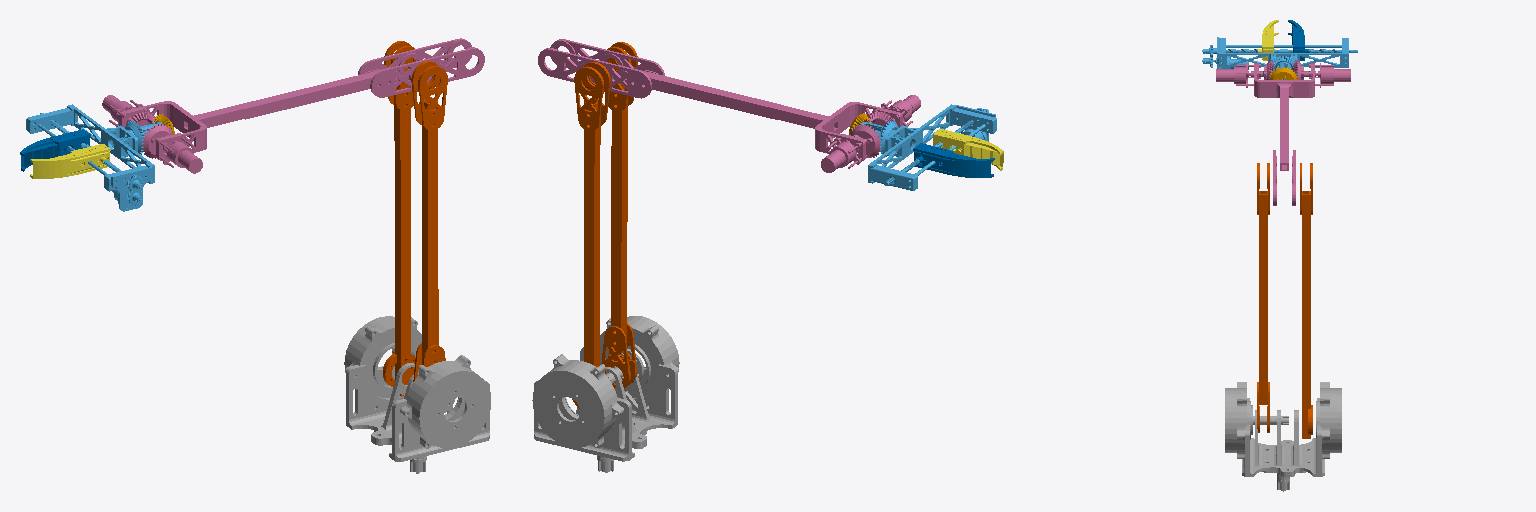
URDF robot description (rm):
<robot name="rm" version="1.0">
  <joint name="bevel_pitch" type="revolute">
    <limit lower="-1.57000" upper="1.57000" effort="10.0" velocity="2.0"/>
    <origin rpy="0 0.00000 0" xyz="0.00000 0.00000 0.00000"/>
    <parent link="bevel_link"/>
    <child link="bevel_link_link"/>
    <axis xyz="1.00000 0.00000 0.00000"/>
  </joint>
  <joint name="bevel_roll" type="revolute">
    <limit lower="-1.57000" upper="1.57000" effort="10.0" velocity="2.0"/>
    <origin rpy="0.00000 0.00000 0.00000" xyz="-0.51941 -0.00182 -0.00020"/>
    <parent link="link2_link"/>
    <child link="bevel_link"/>
    <axis xyz="0.00000 1.00000 0.00000"/>
  </joint>
  <joint name="gripper_l" type="prismatic">
    <limit lower="0.00000" upper="0.08000" effort="10.0" velocity="2.0"/>
    <origin rpy="0.00000 0.00000 0.0" xyz="-0.11603 -0.01154 0.00026"/>
    <parent link="bevel_link_link"/>
    <child link="gripperl_link"/>
    <axis xyz="0.00000 -1.00000 0.00000"/>
  </joint>
  <joint name="gripper_r" type="prismatic">
    <limit lower="0.00000" upper="0.08000" effort="10.0" velocity="2.0"/>
    <origin rpy="0.00000 0.00000 0.0" xyz="-0.11612 0.00953 0.00026"/>
    <parent link="bevel_link_link"/>
    <child link="gripperr_link"/>
    <axis xyz="0.00000 1.00000 0.00000"/>
  </joint>
  <joint name="link1" type="revolute">
    <limit lower="-1.10000" upper="0.60000" effort="10.0" velocity="2.0"/>
    <origin rpy="0.00000 0.00000 0.00000" xyz="-0.00009 0.00000 0.11805"/>
    <parent link="swivel_link"/>
    <child link="link1_link"/>
    <axis xyz="0.00000 1.00000 0.00000"/>
  </joint>
  <joint name="link2" type="revolute">
    <limit lower="-1.10000" upper="0.80000" effort="10.0" velocity="2.0"/>
    <origin rpy="0.00000 0.00000 0.00000" xyz="-0.00188 0.00211 0.57968"/>
    <parent link="link1_link"/>
    <child link="link2_link"/>
    <axis xyz="0.00000 1.00000 0.00000"/>
  </joint>
  <joint name="swivel" type="revolute">
    <limit lower="-1.57000" upper="1.57000" effort="10.0" velocity="2.0"/>
    <origin rpy="0.00000 0.00000 0.00000" xyz="0.00009 -0.00000 0.05537"/>
    <parent link="body_link"/>
    <child link="swivel_link"/>
    <axis xyz="0.00000 0.00000 1.00000"/>
  </joint>
  <link name="bevel_link">
    <collision name="bevel_collision_roll">
      <origin rpy="0.0 -0.00000 0.0" xyz="0.00000 -0.00000 0.00000"/>
      <geometry>
        <mesh filename="package://actual_rm_description/meshes/stl/bevel_collision_roll.stl" scale="1.00000 1.00000 1.00000"/>
      </geometry>
    </collision>
    <visual name="bevel_roll">
      <origin rpy="0.0 -0.00000 0.0" xyz="0.00000 -0.00000 -0.00000"/>
      <geometry>
        <mesh filename="package://actual_rm_description/meshes/stl/bevel_roll.stl" scale="1.00000 1.00000 1.00000"/>
      </geometry>
    </visual>
  </link>
  <link name="bevel_link_link">
    <collision name="bevel_collision_pitch">
      <origin rpy="0.00000 0.00000 0.0" xyz="-0.00000 0.00000 0.00000"/>
      <geometry>
        <mesh filename="package://actual_rm_description/meshes/stl/bevel_collision_pitch.stl" scale="1.00000 1.00000 1.00000"/>
      </geometry>
    </collision>
    <visual name="bevel_pitch">
      <origin rpy="0.00000 0.00000 0.0" xyz="-0.00000 0.00000 0.00000"/>
      <geometry>
        <mesh filename="package://actual_rm_description/meshes/stl/bevel_pitch.stl" scale="1.00000 1.00000 1.00000"/>
      </geometry>
    </visual>
  </link>
  <link name="body_link">
    <collision name="body_collision">
      <origin rpy="0.00000 0.00000 0.00000" xyz="0.00000 0.00000 0.00000"/>
      <geometry>
        <mesh filename="package://actual_rm_description/meshes/stl/body_collision.stl" scale="1.00000 1.00000 1.00000"/>
      </geometry>
    </collision>
    <visual name="body">
      <origin rpy="0.00000 0.00000 0.00000" xyz="0.00000 0.00000 0.00000"/>
      <geometry>
        <mesh filename="package://actual_rm_description/meshes/stl/body.stl" scale="1.00000 1.00000 1.00000"/>
      </geometry>
    </visual>
  </link>
  <link name="gripperl_link">
    <collision name="gripperl_collision">
      <origin rpy="0.00000 0.00000 0.00000" xyz="0.00000 -0.00906 0.00000"/>
      <geometry>
        <mesh filename="package://actual_rm_description/meshes/stl/gripperl_collision.stl" scale="1.00000 1.00000 1.00000"/>
      </geometry>
    </collision>
    <visual name="gripperl">
      <origin rpy="0.00000 0.00000 0.00000" xyz="0.00000 -0.00906 0.00000"/>
      <geometry>
        <mesh filename="package://actual_rm_description/meshes/stl/gripperl.stl" scale="1.00000 1.00000 1.00000"/>
      </geometry>
    </visual>
  </link>
  <link name="gripperr_link">
    <collision name="gripperr_collision">
      <origin rpy="0.00000 0.00000 0.00000" xyz="0.00000 0.01059 -0.00000"/>
      <geometry>
        <mesh filename="package://actual_rm_description/meshes/stl/gripperr_collision.stl" scale="1.00000 1.00000 1.00000"/>
      </geometry>
    </collision>
    <visual name="gripperr">
      <origin rpy="0.00000 0.00000 0.00000" xyz="0.00000 0.01059 -0.00000"/>
      <geometry>
        <mesh filename="package://actual_rm_description/meshes/stl/gripperr.stl" scale="1.00000 1.00000 1.00000"/>
      </geometry>
    </visual>
  </link>
  <link name="link1_link">
    <collision name="link1_collision">
      <origin rpy="0.00000 0.00000 0.00000" xyz="0.00000 0.00000 0.00000"/>
      <geometry>
        <mesh filename="package://actual_rm_description/meshes/stl/link1_collision.stl" scale="1.00000 1.00000 1.00000"/>
      </geometry>
    </collision>
    <visual name="link1">
      <origin rpy="0.00000 0.00000 0.00000" xyz="0.00000 0.00000 0.00000"/>
      <geometry>
        <mesh filename="package://actual_rm_description/meshes/stl/link1.stl" scale="1.00000 1.00000 1.00000"/>
      </geometry>
    </visual>
  </link>
  <link name="link2_link">
    <collision name="link2_collision">
      <origin rpy="0.00000 0.00000 0.00000" xyz="0.00000 0.00000 0.00000"/>
      <geometry>
        <mesh filename="package://actual_rm_description/meshes/stl/link2_collision.stl" scale="1.00000 1.00000 1.00000"/>
      </geometry>
    </collision>
    <visual name="link2">
      <origin rpy="0.00000 0.00000 0.00000" xyz="0.00000 0.00000 0.00000"/>
      <geometry>
        <mesh filename="package://actual_rm_description/meshes/stl/link2.stl" scale="1.00000 1.00000 1.00000"/>
      </geometry>
    </visual>
  </link>
  <link name="swivel_link">
    <collision name="swivel_collision">
      <origin rpy="0.00000 0.00000 0.00000" xyz="0.00000 0.00000 0.00000"/>
      <geometry>
        <mesh filename="package://actual_rm_description/meshes/stl/Cube.001.stl" scale="1.00000 1.00000 1.00000"/>
      </geometry>
    </collision>
    <visual name="swivel">
      <origin rpy="0.00000 0.00000 0.00000" xyz="0.00000 0.00000 0.00000"/>
      <geometry>
        <mesh filename="package://actual_rm_description/meshes/stl/swivel.stl" scale="1.00000 1.00000 1.00000"/>
      </geometry>
    </visual>
  </link>
</robot>

--- What the picture shows (computed from the rendered views, not written in the file) ---
The picture shows the robot from 3 angles, left to right: view 1: azimuth 30°, elevation 25°; view 2: azimuth 150°, elevation 25°; view 3: azimuth 270°, elevation 25°; orthographic projection.
Robot: rm — 8 links, 7 joints (5 revolute, 2 prismatic); root link body_link; default pose: all joints at 0.
Links seen in each view (by area): view 1: swivel_link, link1_link, link2_link, bevel_link_link, gripperl_link, gripperr_link; view 2: swivel_link, link1_link, link2_link, bevel_link_link, gripperr_link, gripperl_link; view 3: swivel_link, link1_link, link2_link, bevel_link_link.
Link boxes in pixels (x1,y1,x2,y2): swivel_link: [344, 316, 490, 473]; link1_link: [383, 41, 447, 396]; link2_link: [102, 38, 484, 173]; bevel_link_link: [26, 104, 161, 211]; gripperl_link: [30, 144, 110, 178]; gripperr_link: [20, 129, 90, 171]; swivel_link: [532, 316, 679, 472]; link1_link: [572, 42, 637, 408]; link2_link: [538, 39, 920, 172]; bevel_link_link: [861, 104, 996, 190]; gripperr_link: [913, 143, 994, 177]; gripperl_link: [933, 129, 1003, 170]; swivel_link: [1225, 382, 1341, 491]; link1_link: [1257, 163, 1312, 438]; link2_link: [1216, 60, 1350, 205]; bevel_link_link: [1202, 37, 1357, 79].
Bounding box of the posed robot: 0.877 × 0.3367 × 0.7731 m (x, y, z).
Meshes: 8 distinct files referenced, 7 mesh visuals loaded (7 binary STL); not drawn: 1 (reference not matched to a file when rendering).